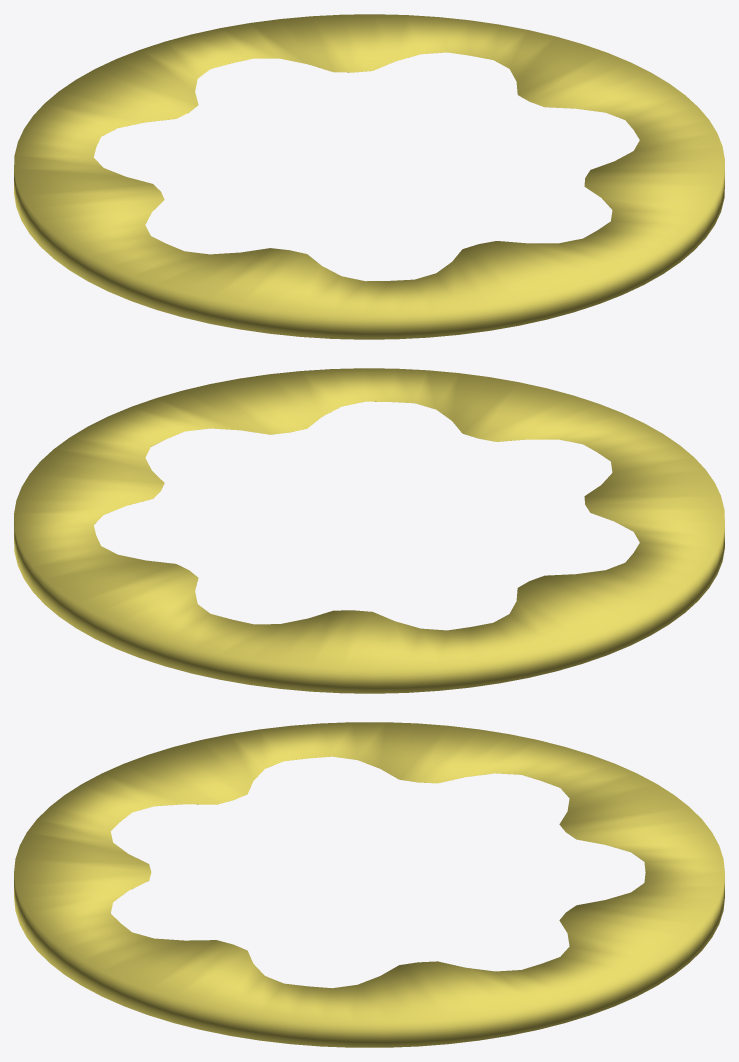
Rendered from ParadiseFloorWallsCeiling.fbx.
3 renders of one model, top to bottom at view 1: azimuth 30°, elevation 25°; view 2: azimuth 150°, elevation 25°; view 3: azimuth 270°, elevation 25°, orthographic.
Visible parts, largest first — view 1: WallSolid; view 2: WallSolid; view 3: WallSolid.
Boxes of the visible parts, x1,y1,x2,y2 form: WallSolid: [14, 14, 724, 339]; WallSolid: [14, 368, 724, 693]; WallSolid: [14, 722, 724, 1047].
Bounding box in the file's own units: 13888 × 542 × 13887.
